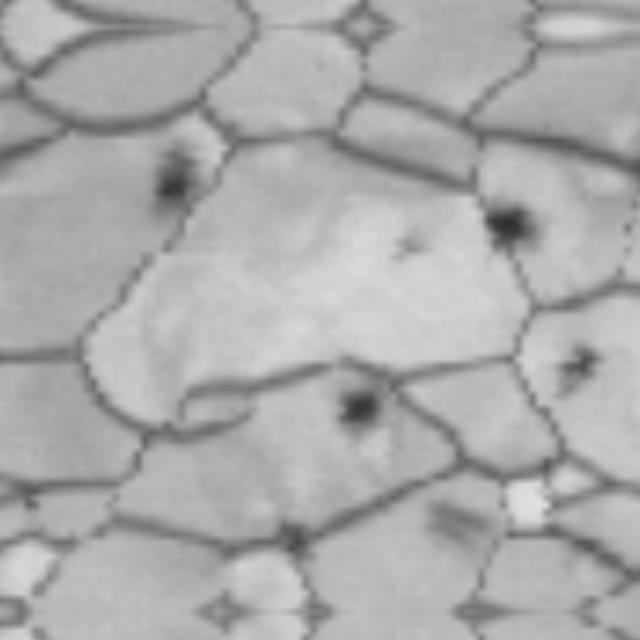good_void: (147, 136, 211, 226), (417, 497, 496, 561), (475, 194, 551, 260), (547, 342, 609, 403), (330, 384, 388, 443), (383, 228, 439, 271), (269, 519, 321, 562), (23, 495, 46, 514)
